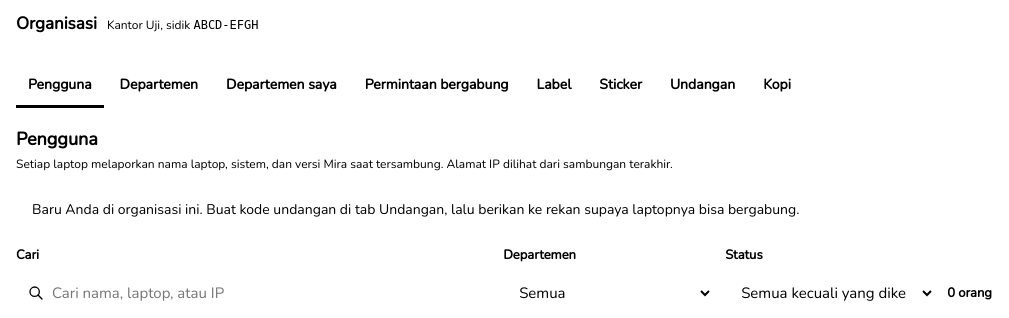
Sticker: tab dan keadaan › katalog tanpa hak kelola: pemberitahuan, tanpa tombol tambah
Step 1. Click the button "Sticker" → {"x": 621, "y": 86}, box [587,64,654,108]
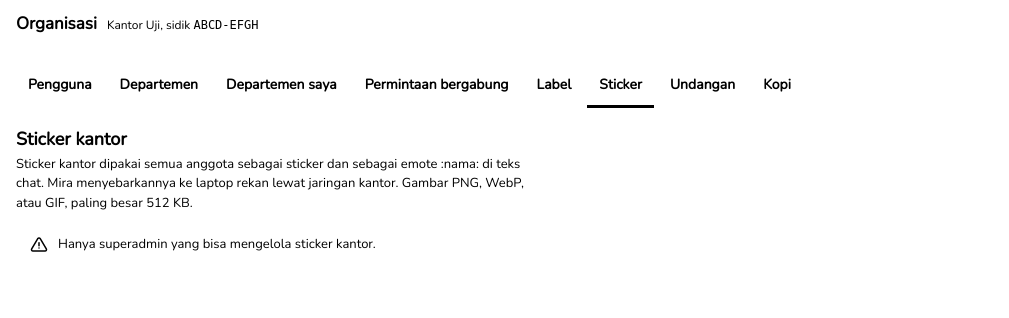
Expected: the text "Hanya superadmin yang bisa mengelola sticker kantor." is shown, [58,235,376,254]
